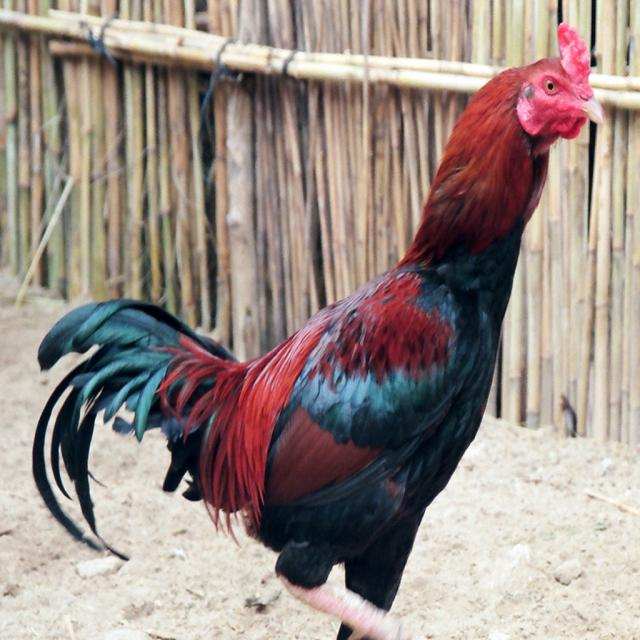Chicken: (20, 22, 609, 639)
